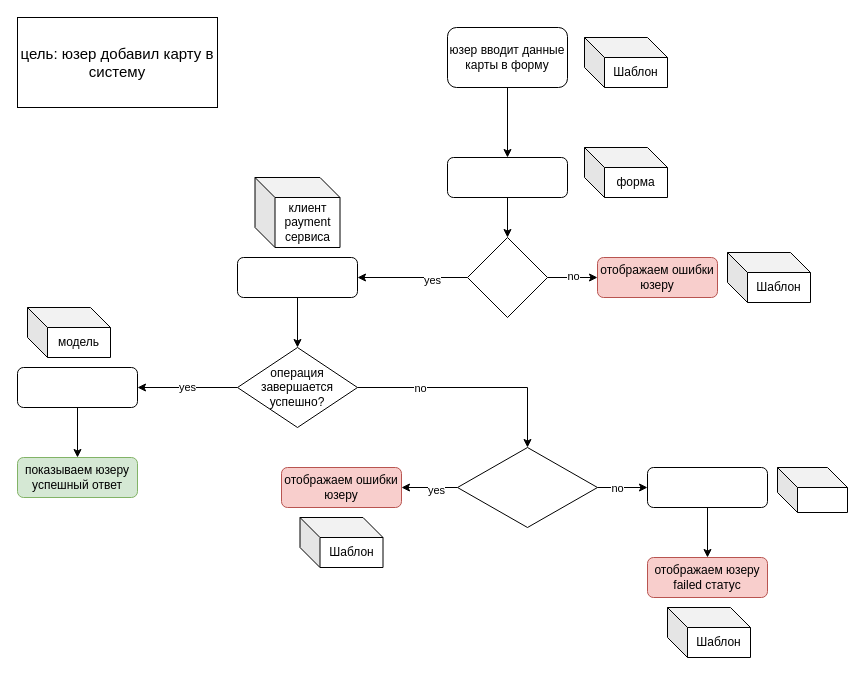
The diagram is 865 pixels wide and 675 high, and some of its shapes have lost their labels. The centre of each missing label's shape, as x and y in pixels:
"бэкенд валидирует данные" goes at pixel 507 177.
"данные валидные?" goes at pixel 507 277.
"залоггировать" goes at pixel 707 487.
"запросить доверие карты приложению" goes at pixel 297 277.
"логгер" goes at pixel 812 489.
"сохранить карту" goes at pixel 77 387.
"статус ошибки 422?" goes at pixel 527 487.
